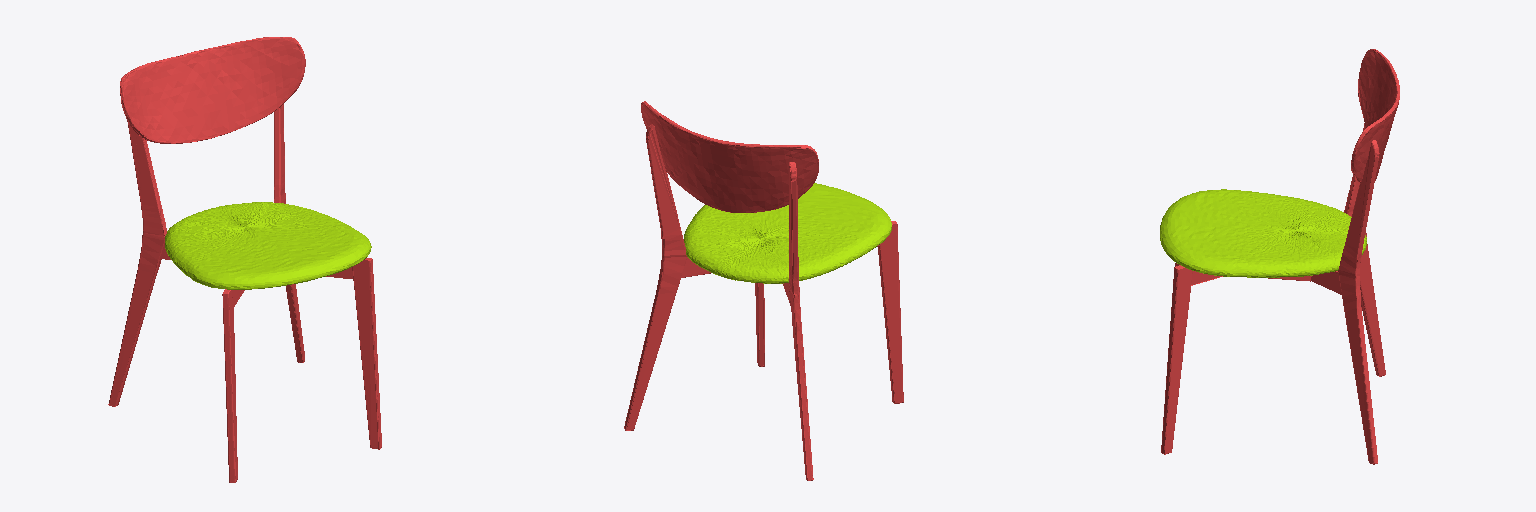
Rendered from chair11.obj.
3 renders of one model, left to right at view 1: azimuth 30°, elevation 25°; view 2: azimuth 150°, elevation 25°; view 3: azimuth 270°, elevation 25°, orthographic.
Parts seen in each view (by area): view 1: Object.1, Object.2; view 2: Object.1, Object.2; view 3: Object.2, Object.1.
Boxes of the visible parts, x1,y1,x2,y2 form: Object.1: [108, 37, 381, 482]; Object.2: [165, 202, 371, 289]; Object.1: [624, 101, 903, 480]; Object.2: [684, 183, 891, 283]; Object.2: [1160, 189, 1366, 277]; Object.1: [1161, 49, 1399, 464].
Bounding box in the file's own units: 43.31 × 71.76 × 46.76.